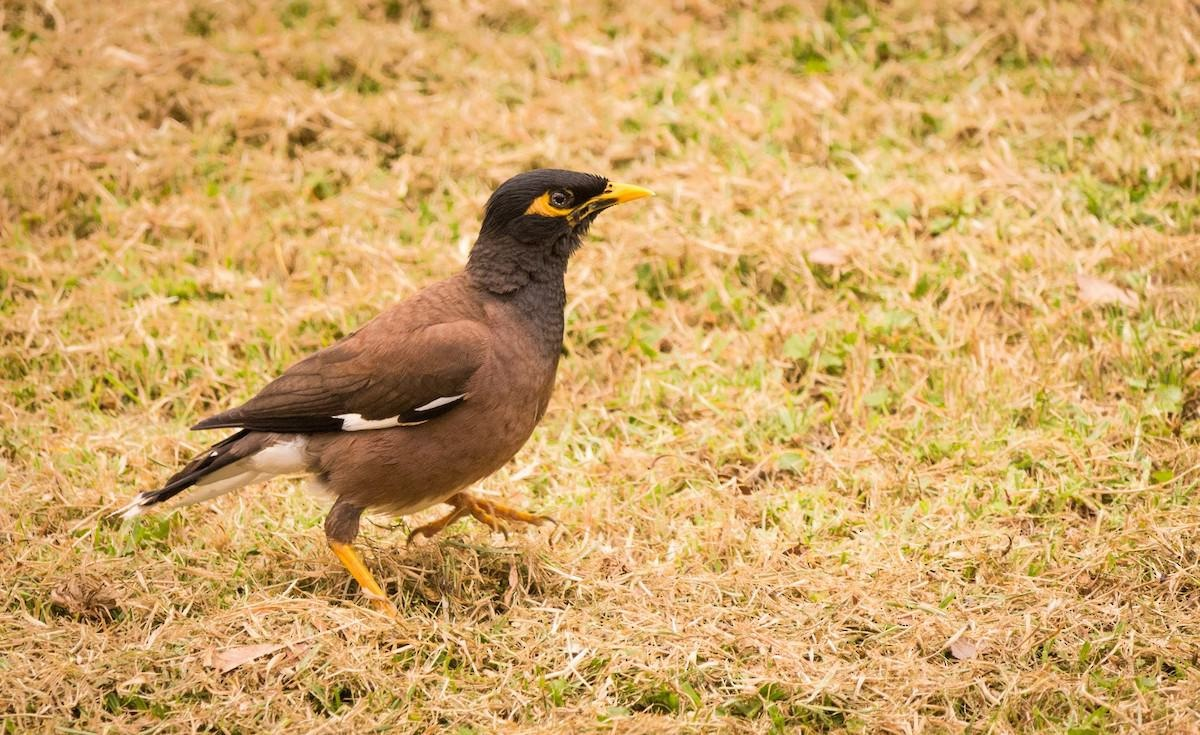myna: (175, 139, 700, 599)
